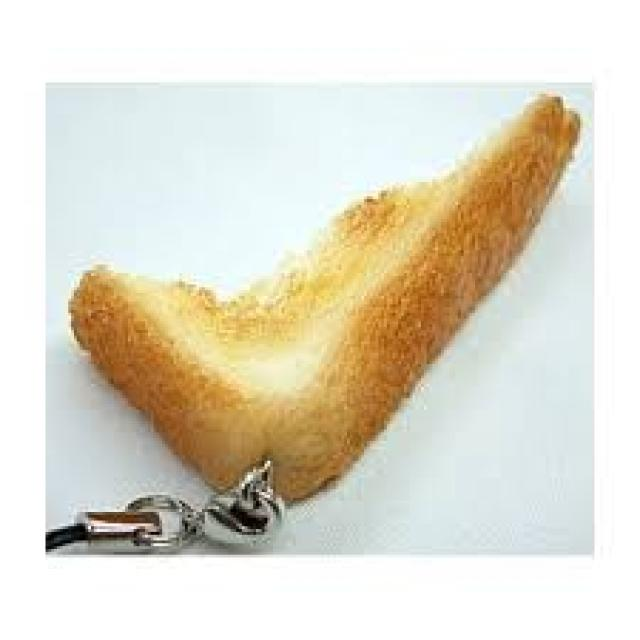organic waste: (65, 88, 578, 501)
